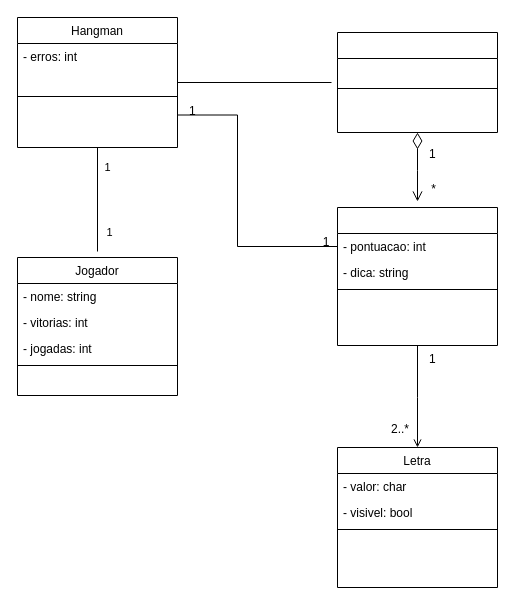
This 515x605 diagram has some shape labels left out. Here are the shapes that lost their labels. From the top down, the box of each, then its label:
(336, 32, 498, 132): Vocabulario
(336, 206, 498, 346): Palavra
